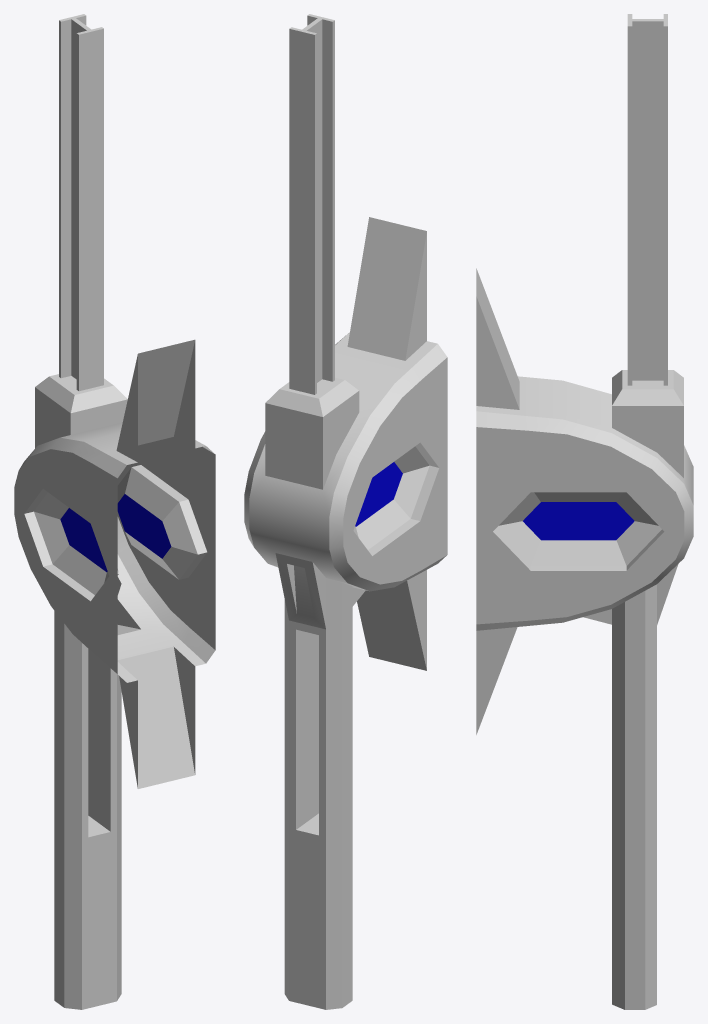
Rendered from FortressWallSidePillar 1.fbx.
The picture shows the model from 3 angles, left to right: view 1: azimuth 30°, elevation 25°; view 2: azimuth 150°, elevation 25°; view 3: azimuth 270°, elevation 25°; orthographic projection.
Parts seen in each view (by area): view 1: FortressWallSidePillarMesh, FortressWallSidePillarMesh.001; view 2: FortressWallSidePillarMesh, FortressWallSidePillarMesh.001; view 3: FortressWallSidePillarMesh, FortressWallSidePillarMesh.001.
Part boxes in pixels (x1=…): FortressWallSidePillarMesh: x1=14, y1=14, x2=215, y2=788; FortressWallSidePillarMesh.001: x1=54, y1=577, x2=121, y2=1009; FortressWallSidePillarMesh: x1=244, y1=14, x2=447, y2=670; FortressWallSidePillarMesh.001: x1=284, y1=578, x2=352, y2=1009; FortressWallSidePillarMesh: x1=476, y1=14, x2=693, y2=734; FortressWallSidePillarMesh.001: x1=612, y1=584, x2=656, y2=1009.
Size of the model in its own units: 188 by 1778 by 358.
